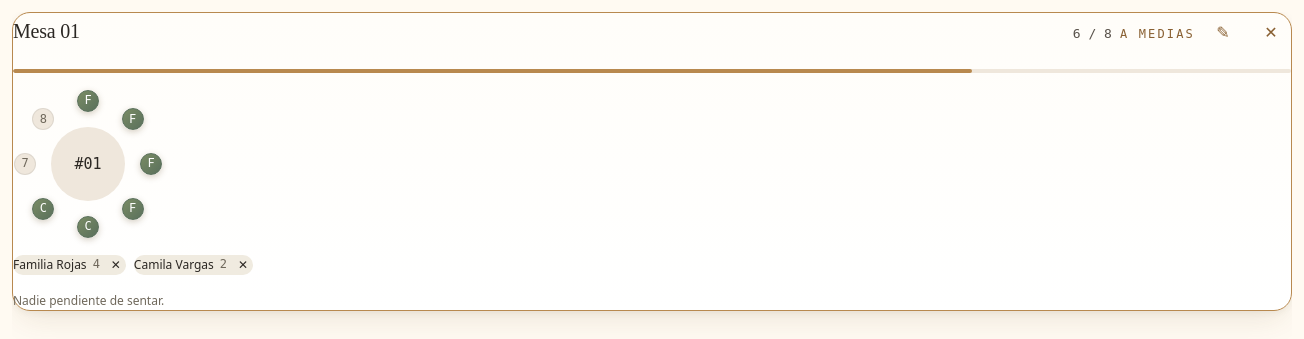
Test: TableCard · borrar una mesa › el aspa pregunta antes de borrar: no hay deshacer
Click the button named "Eliminar Mesa 01": (1271, 33) [1251,13,1291,53]
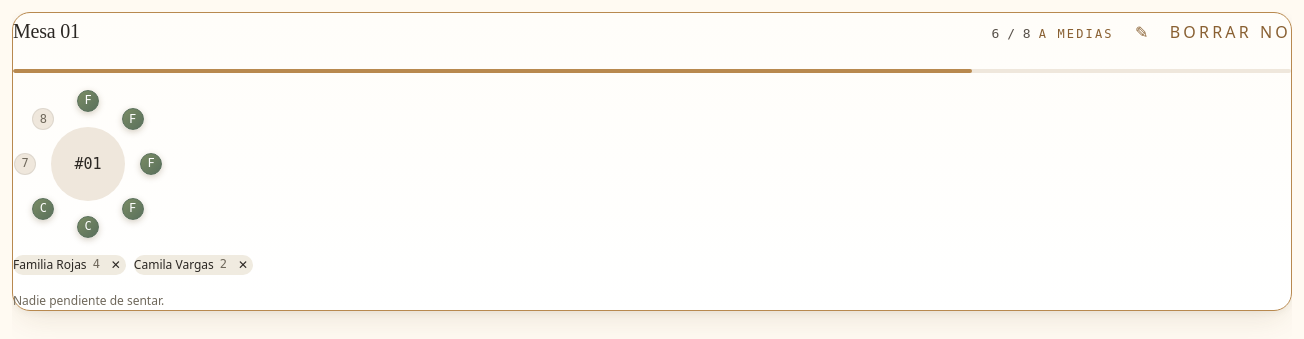
Now the button "Borrar" is shown, box [1170,20,1252,46]
